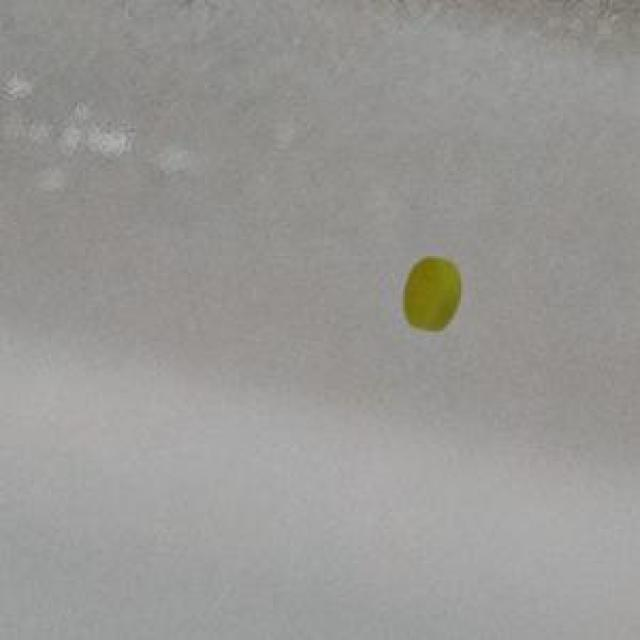Decolgen: (389, 241, 472, 342)
